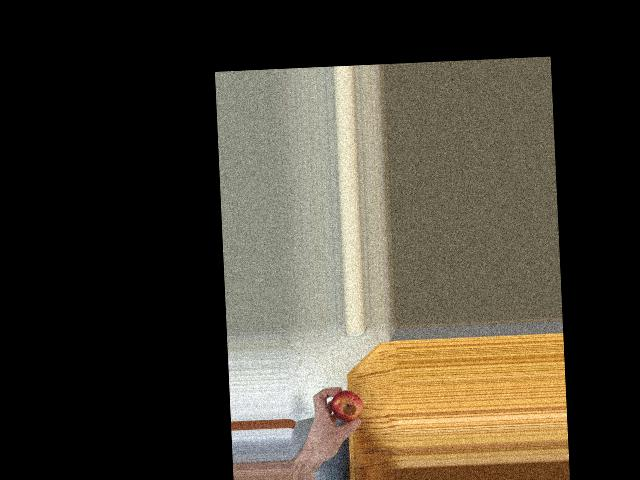apple: (331, 389, 363, 428)
